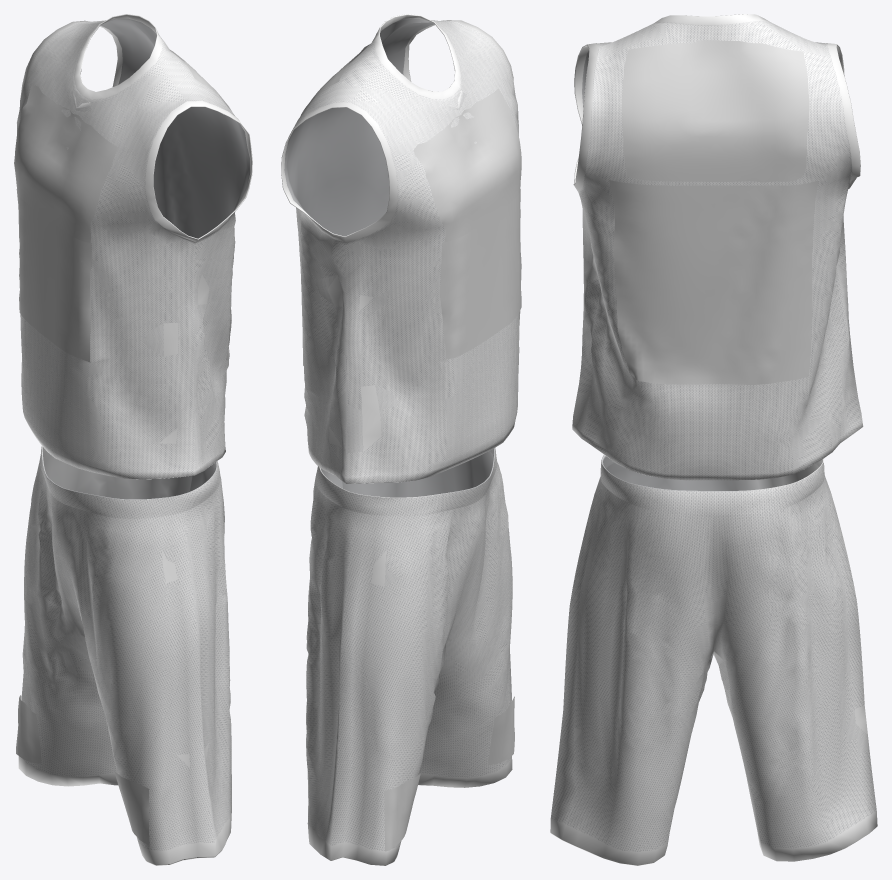
The model's file is jersey.gltf.
The picture shows the model from 3 angles, left to right: view 1: azimuth 30°, elevation 25°; view 2: azimuth 150°, elevation 25°; view 3: azimuth 270°, elevation 25°; orthographic projection. The views are drawn at different scales.
Visible parts, largest first — view 1: <name>_Standard, logo_Name_Front, logo_Number_Front, <name>_Side_Stripe, logo_Number_Short_Left, logo_Number_Short_Right; view 2: <name>_Standard, logo_Name_Front, logo_Number_Front, <name>_Side_Stripe, logo_Number_Short_Right, logo_Number_Short_Left; view 3: <name>_Standard, logo_Number_Back, logo_Name_Back, <name>_Side_Stripe.
Boxes of the visible parts, x1,y1,x2,y2 form: <name>_Standard: [17, 14, 252, 865]; logo_Name_Front: [14, 84, 118, 262]; logo_Number_Front: [16, 189, 91, 362]; <name>_Side_Stripe: [143, 256, 222, 767]; logo_Number_Short_Left: [114, 770, 149, 845]; logo_Number_Short_Right: [16, 695, 41, 763]; <name>_Standard: [281, 14, 520, 865]; logo_Name_Front: [413, 88, 521, 257]; logo_Number_Front: [439, 189, 521, 359]; <name>_Side_Stripe: [314, 275, 403, 786]; logo_Number_Short_Right: [384, 773, 420, 851]; logo_Number_Short_Left: [488, 696, 514, 764]; <name>_Standard: [550, 14, 877, 865]; logo_Number_Back: [609, 180, 818, 384]; logo_Name_Back: [622, 40, 809, 182]; <name>_Side_Stripe: [574, 218, 869, 753].
Size of the model in its own units: 0.9911 by 4.66 by 1.66.
Materials: 14 (3 with a texture image).
